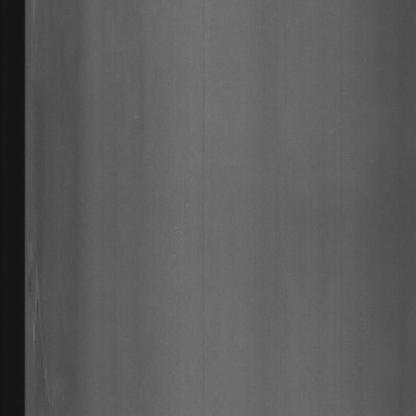silk_spot: (26, 244, 55, 368)
